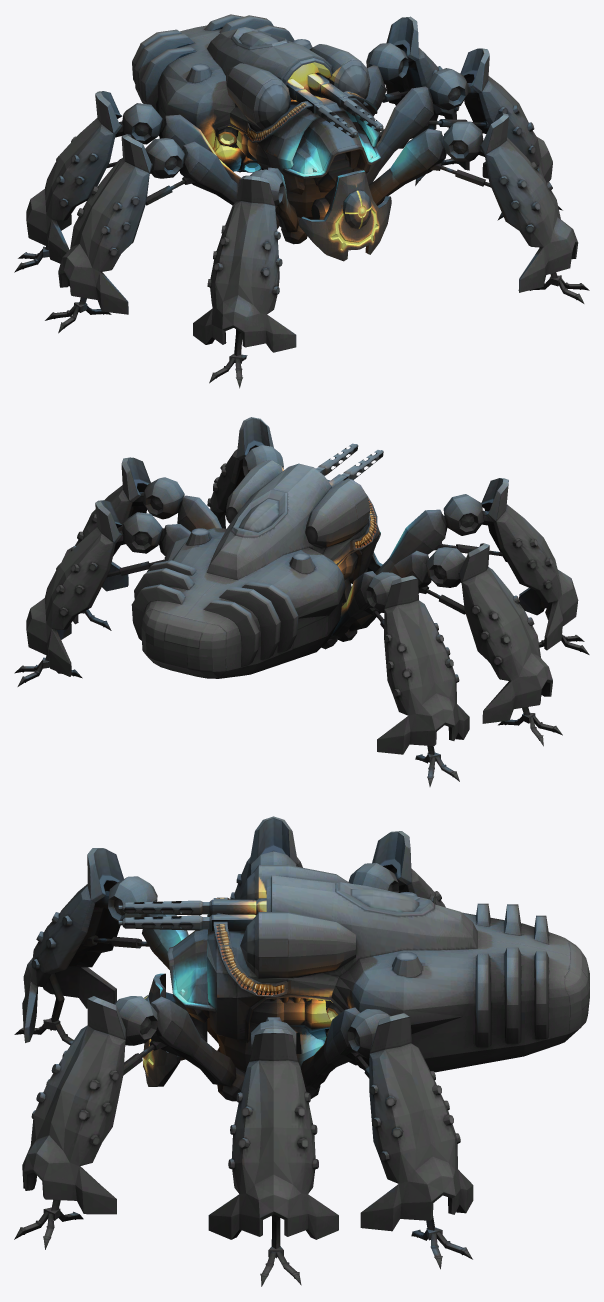
File: funnelweb.dae
3 views of the same model, one above another, from view 1: azimuth 30°, elevation 25°; view 2: azimuth 150°, elevation 25°; view 3: azimuth 270°, elevation 25° (orthographic). The views are drawn at different scales.
Visible parts, largest first — view 1: gaster, shank_frol, shank_midl, shank_fror, shank_bacl, shield, shank_midr, thigh_fror, thigh_midr, thigh_midl, shank_bacr, thigh_bacl (+10 smaller); view 2: gaster, shank_bacl, shank_midl, shank_bacr, shank_frol, thigh_frol, shank_midr, thigh_midl, thigh_midr, shank_fror, thigh_bacl, thigh_bacr (+4 smaller); view 3: gaster, shank_midr, shank_bacr, shank_fror, shank_frol, thigh_fror, gunl, thigh_bacr, thigh_frol, notum, shank_bacl, gunr (+7 smaller).
Boxes of the visible parts, <box> form: gaster: <box>132,14,380,194</box>; shank_frol: <box>193,175,296,352</box>; shank_midl: <box>58,134,152,314</box>; shank_fror: <box>478,113,578,292</box>; shank_bacl: <box>26,91,125,263</box>; shield: <box>298,169,391,261</box>; shank_midr: <box>460,48,552,182</box>; thigh_fror: <box>368,121,483,205</box>; thigh_midr: <box>366,68,468,184</box>; thigh_midl: <box>145,138,238,205</box>; shank_bacr: <box>377,16,469,170</box>; thigh_bacl: <box>122,103,241,184</box>; gaster: <box>131,460,380,678</box>; shank_bacl: <box>377,575,469,754</box>; shank_midl: <box>458,543,552,723</box>; shank_bacr: <box>26,500,125,676</box>; shank_frol: <box>481,478,578,650</box>; thigh_frol: <box>375,494,483,574</box>; shank_midr: <box>62,457,150,624</box>; thigh_midl: <box>349,547,465,631</box>; thigh_midr: <box>143,477,221,531</box>; shank_fror: <box>207,417,273,528</box>; thigh_bacl: <box>329,571,401,638</box>; thigh_bacr: <box>122,512,191,558</box>; gaster: <box>167,865,589,1072</box>; shank_midr: <box>208,1028,338,1239</box>; shank_bacr: <box>360,1013,473,1231</box>; shank_fror: <box>22,996,125,1214</box>; shank_frol: <box>22,848,123,1042</box>; thigh_fror: <box>114,996,235,1086</box>; gunl: <box>118,914,291,996</box>; thigh_bacr: <box>300,1007,390,1090</box>; thigh_frol: <box>108,876,218,1043</box>; notum: <box>216,1023,324,1101</box>; shank_bacl: <box>372,831,445,907</box>; gunr: <box>118,897,266,915</box>.
Bounding box in the file's own units: 126 × 102 × 50.58.
